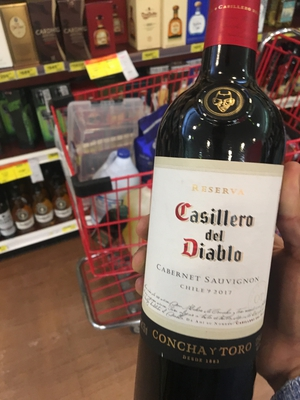casillero del diablo cabernet sauvignon: (136, 7, 292, 400)
